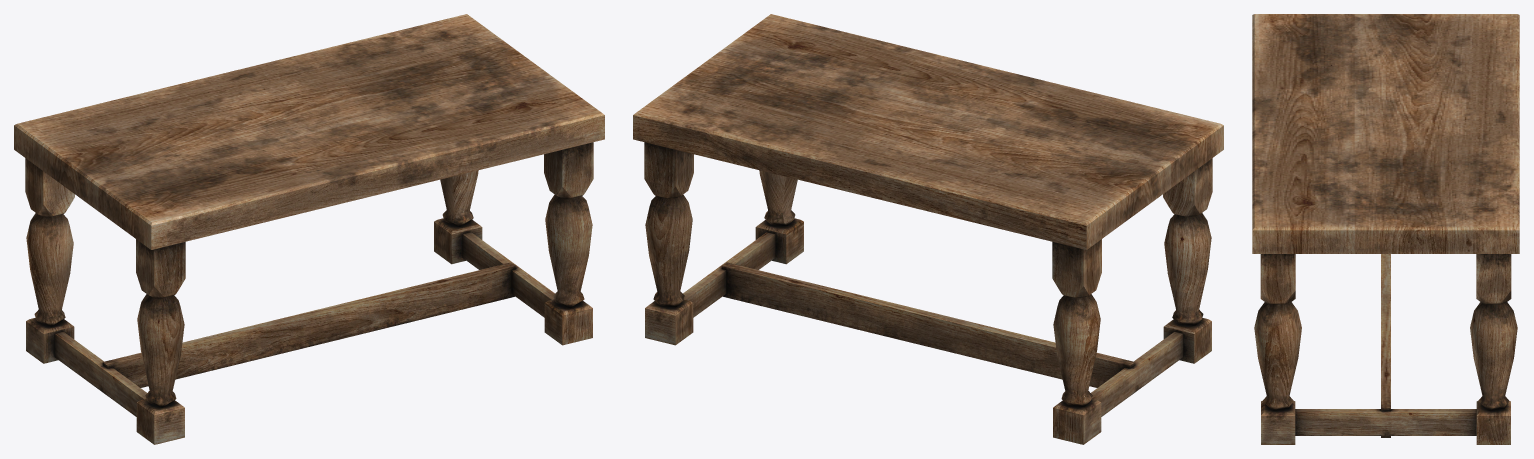
File: table_wood01.dae
The picture shows the model from 3 angles, left to right: view 1: azimuth 30°, elevation 25°; view 2: azimuth 150°, elevation 25°; view 3: azimuth 270°, elevation 25°; orthographic projection. The views are drawn at different scales.
Parts seen in each view (by area): view 1: table_wood01_mesh; view 2: table_wood01_mesh; view 3: table_wood01_mesh.
Part boxes in pixels (x1,y1,x2,y2): table_wood01_mesh: (14, 14, 604, 444); table_wood01_mesh: (633, 14, 1223, 444); table_wood01_mesh: (1252, 14, 1519, 444).
Size of the model in its own units: 2.1 by 1 by 1.1.
